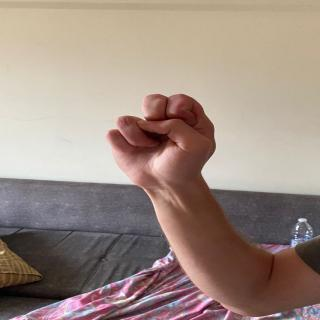QAAF: (84, 80, 236, 210)
